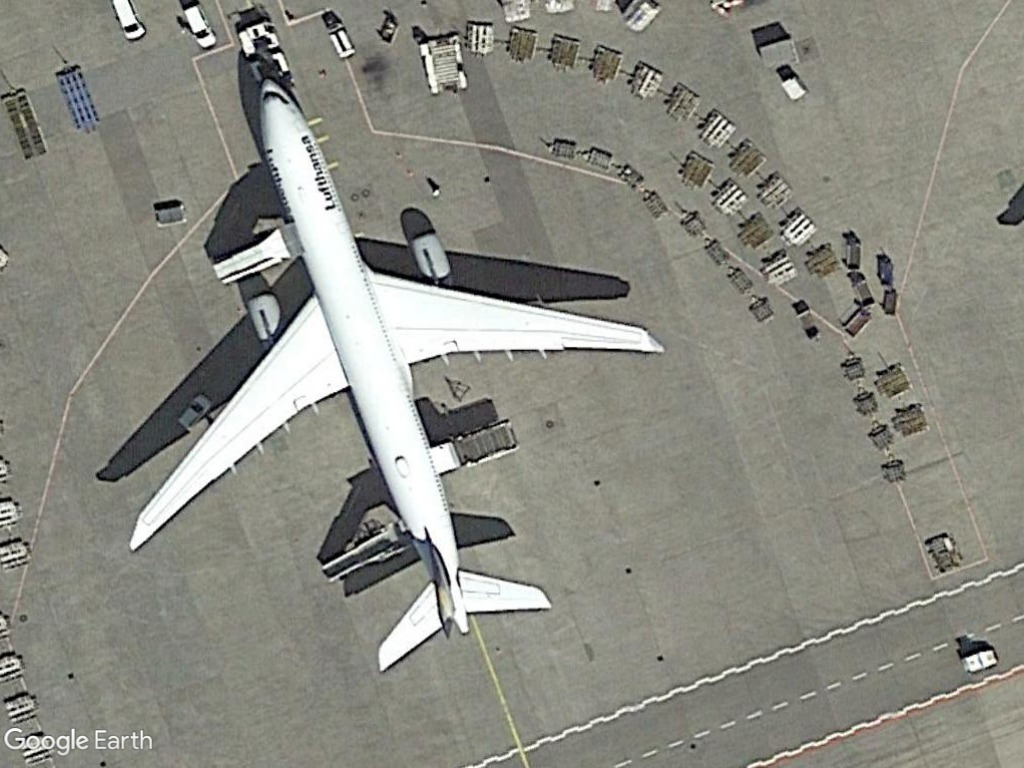airliner: (121, 70, 670, 681)
stairtruck: (308, 519, 409, 588)
van: (179, 1, 219, 54)
